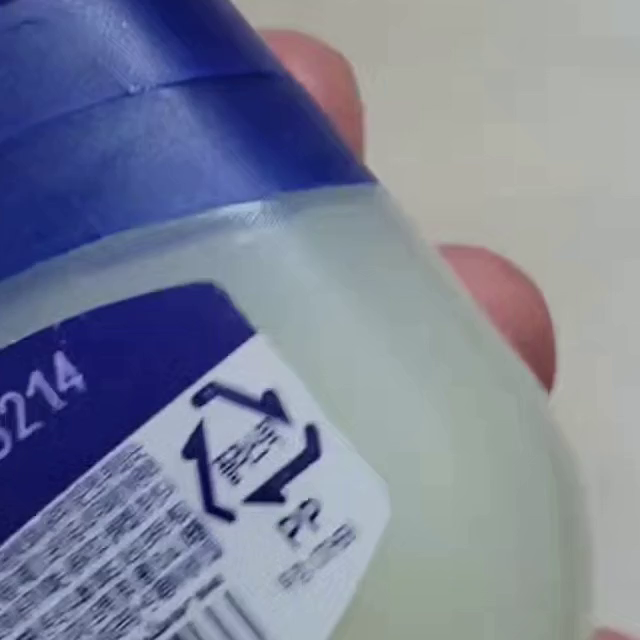Plastic: (182, 380, 323, 524)
